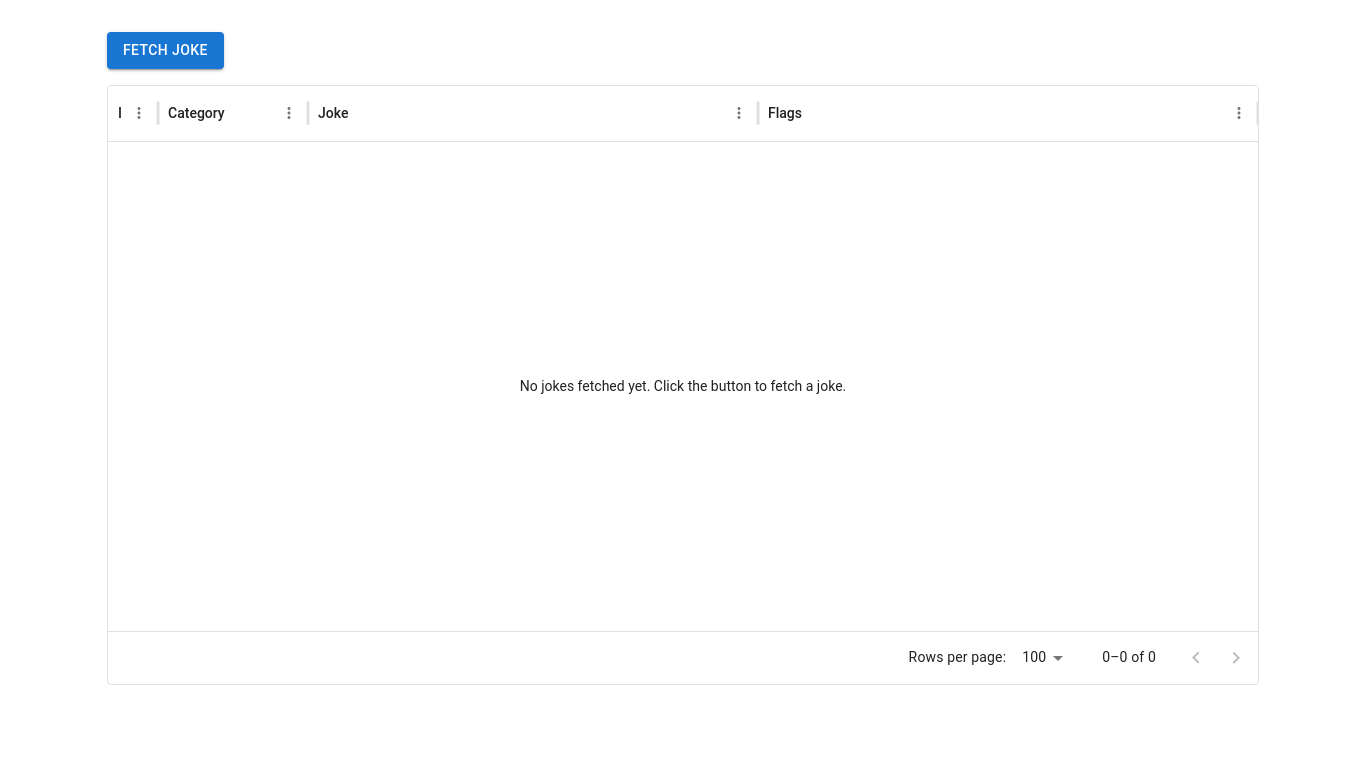
Scenario: App › adds a joke after clicking fetch
Click the button "Fetch Joke".
click(165, 50)  # box [107, 32, 224, 68]
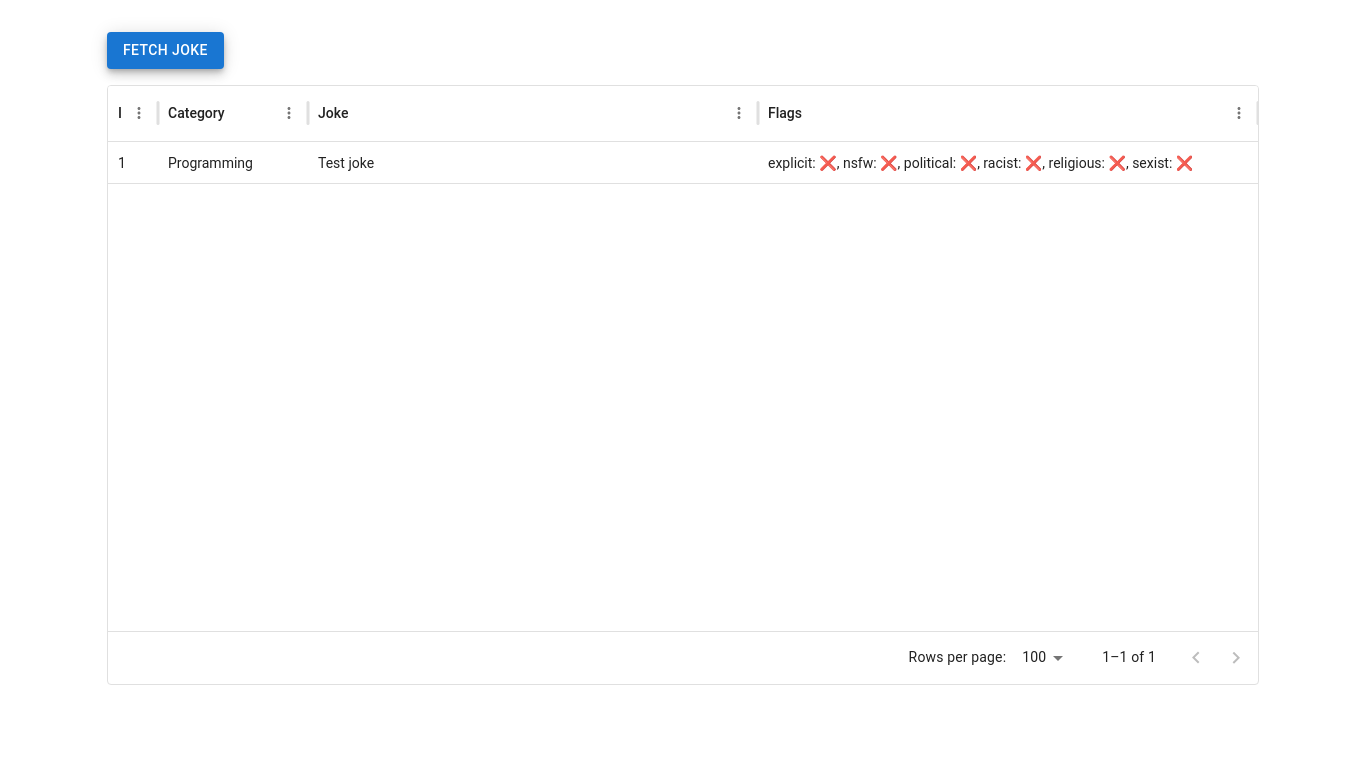
Expected: the text "Test joke" is shown, [318, 154, 374, 170]
